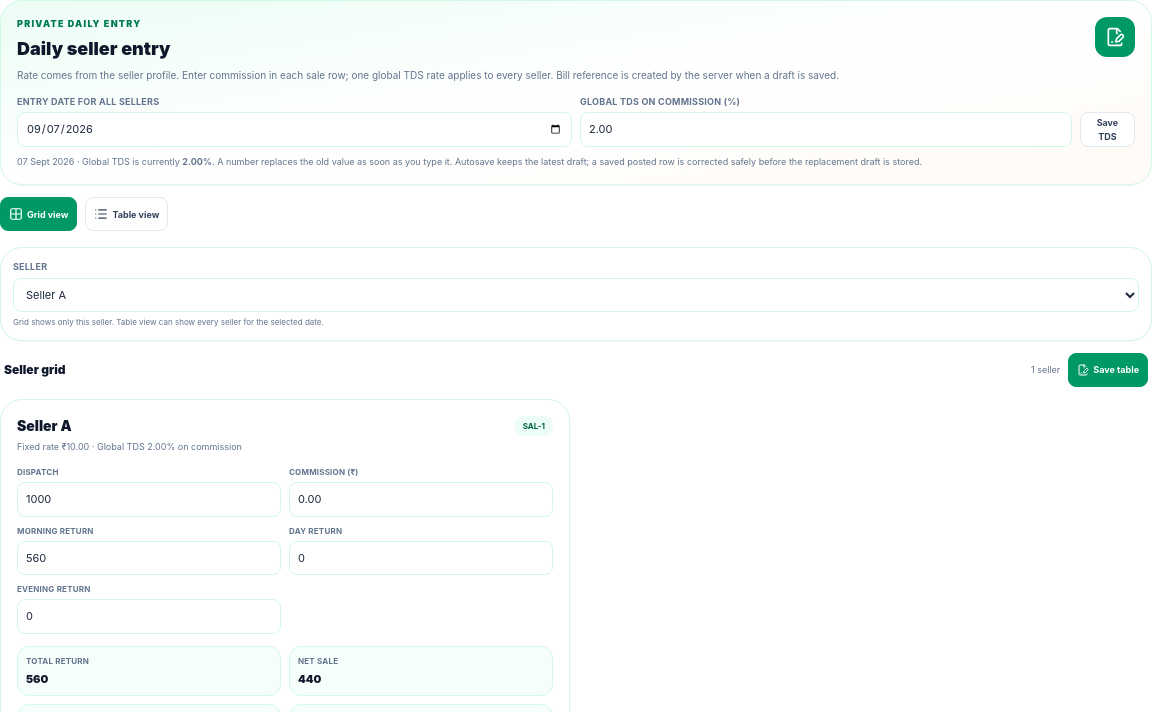
Test: DailySellerEntry local-first projection › keeps a DEVICE row local when the explicit durable save fails
Replace the text in the field named "Seller A morning return" with "916": (149, 558) [17, 541, 281, 575]
(page scrolled)
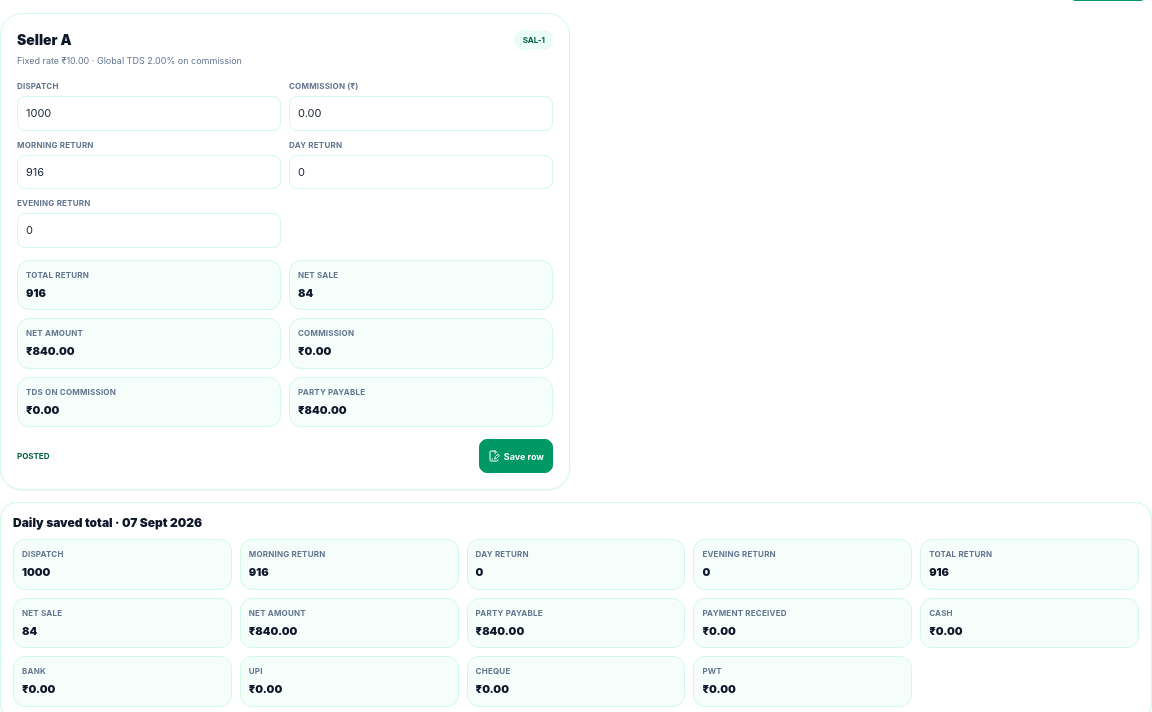
Click the button "Save row": (516, 456) [479, 439, 553, 473]
(page scrolled)
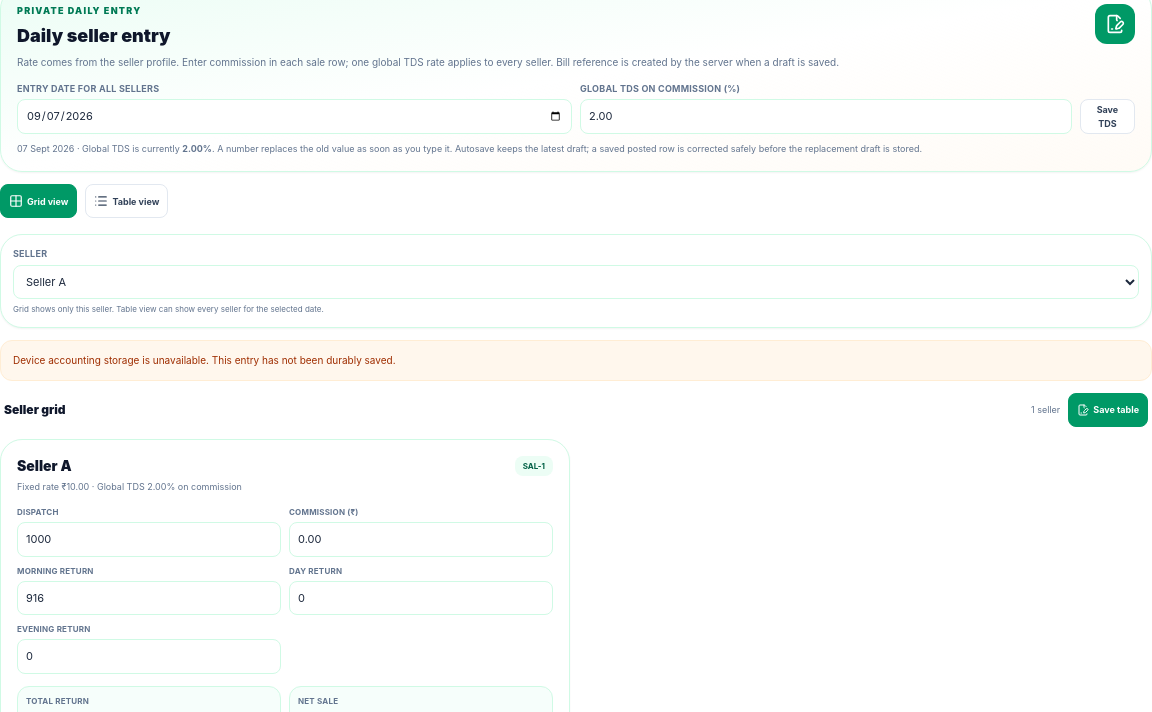
Expected: the message shows "Device accounting storage is unavailable", [13, 354, 396, 366]
